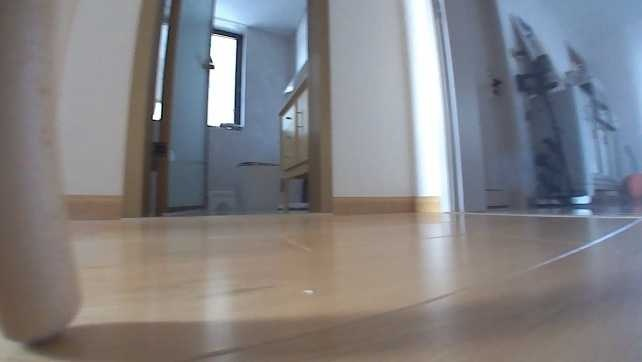door_anno: (123, 0, 213, 216)
toilet: (235, 148, 305, 210)
